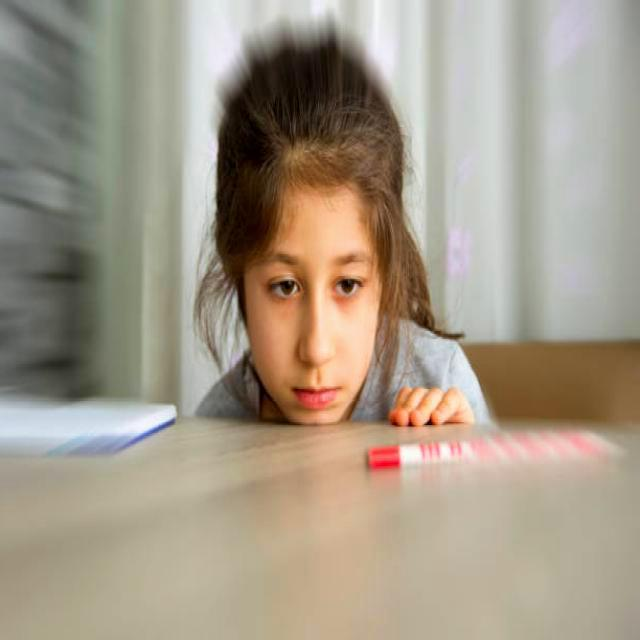Looking away: (252, 193, 378, 425)
